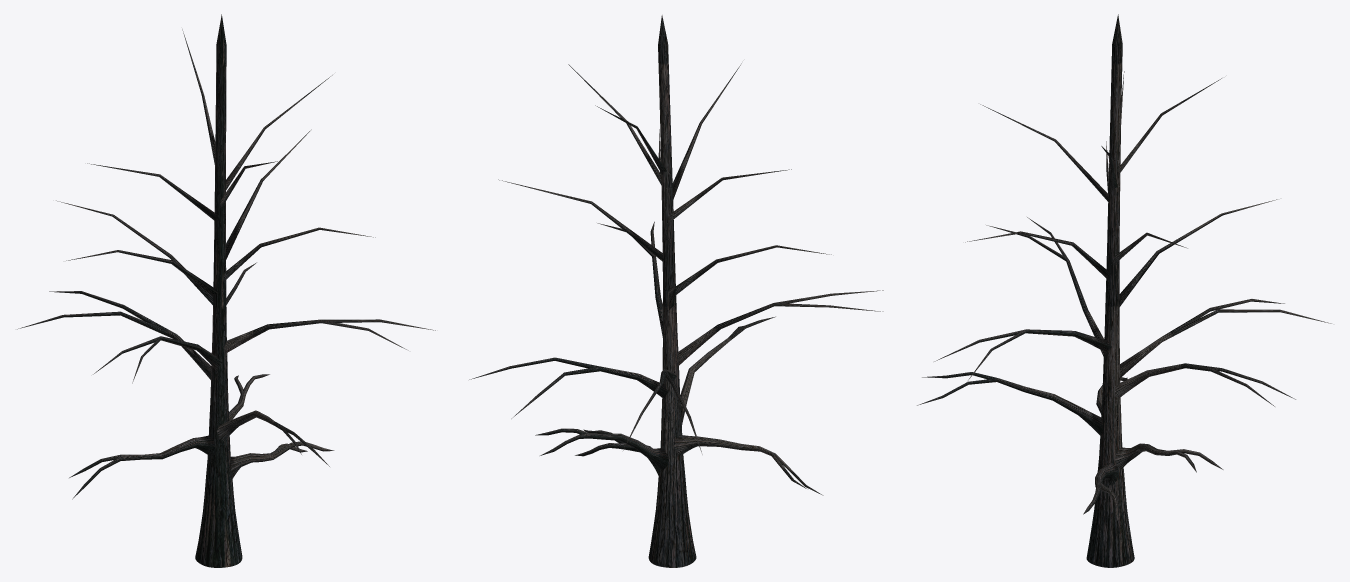
The model's file is fern stem.fbx.
3 renders of one model, left to right at view 1: azimuth 30°, elevation 25°; view 2: azimuth 150°, elevation 25°; view 3: azimuth 270°, elevation 25°, orthographic.
Visible parts, largest first — view 1: illustration4_0; view 2: illustration4_0; view 3: illustration4_0.
Part boxes in pixels (left/top/right/bottom): illustration4_0: left=17, top=14, right=435, bottom=567; illustration4_0: left=469, top=15, right=883, bottom=567; illustration4_0: left=917, top=14, right=1331, bottom=567.
Size of the model in its own units: 0.1851 by 0.3 by 0.209.
1 material, 1 textured.
